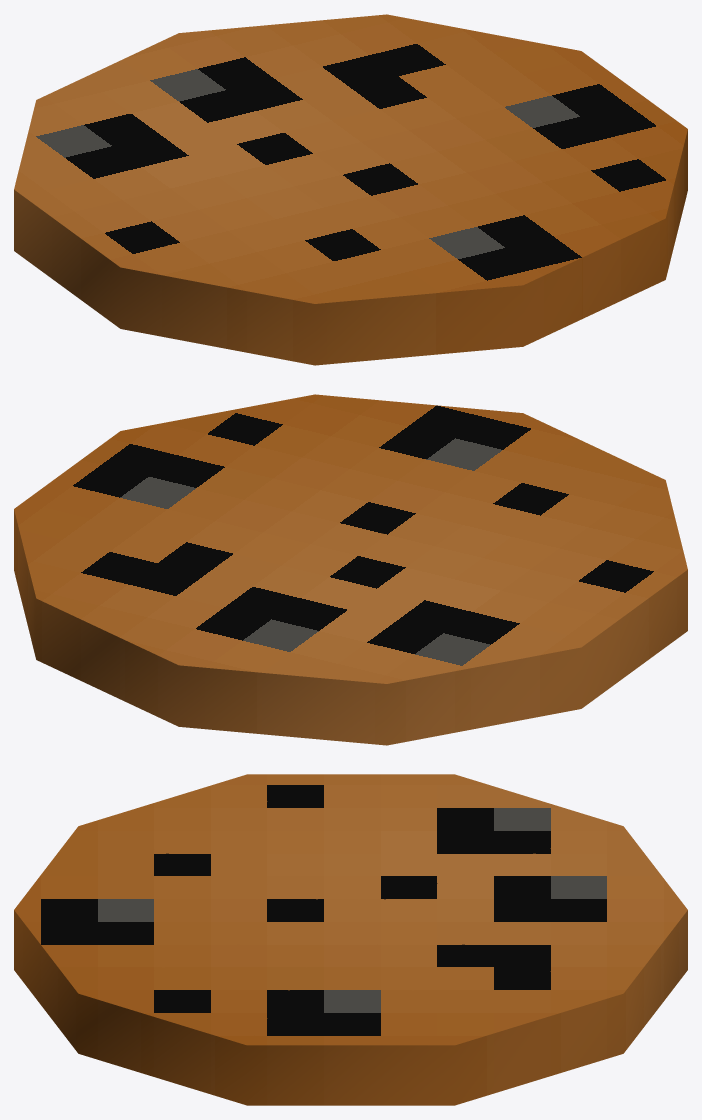
File: cookie.gltf
3 renders of one model, top to bottom at view 1: azimuth 30°, elevation 25°; view 2: azimuth 150°, elevation 25°; view 3: azimuth 270°, elevation 25°, orthographic. The views are drawn at different scales.
Parts seen in each view (by area): view 1: cookie; view 2: cookie; view 3: cookie.
Part boxes in pixels (bbox=[...]): cookie: bbox=[14, 14, 687, 365]; cookie: bbox=[14, 394, 687, 745]; cookie: bbox=[14, 774, 687, 1105].
Size of the model in its own units: 0.1133 by 0.0117 by 0.1192.
Materials: 1 (1 with a texture image).
